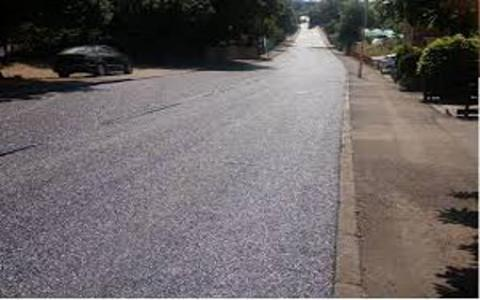Proper road: (97, 89, 339, 291)
